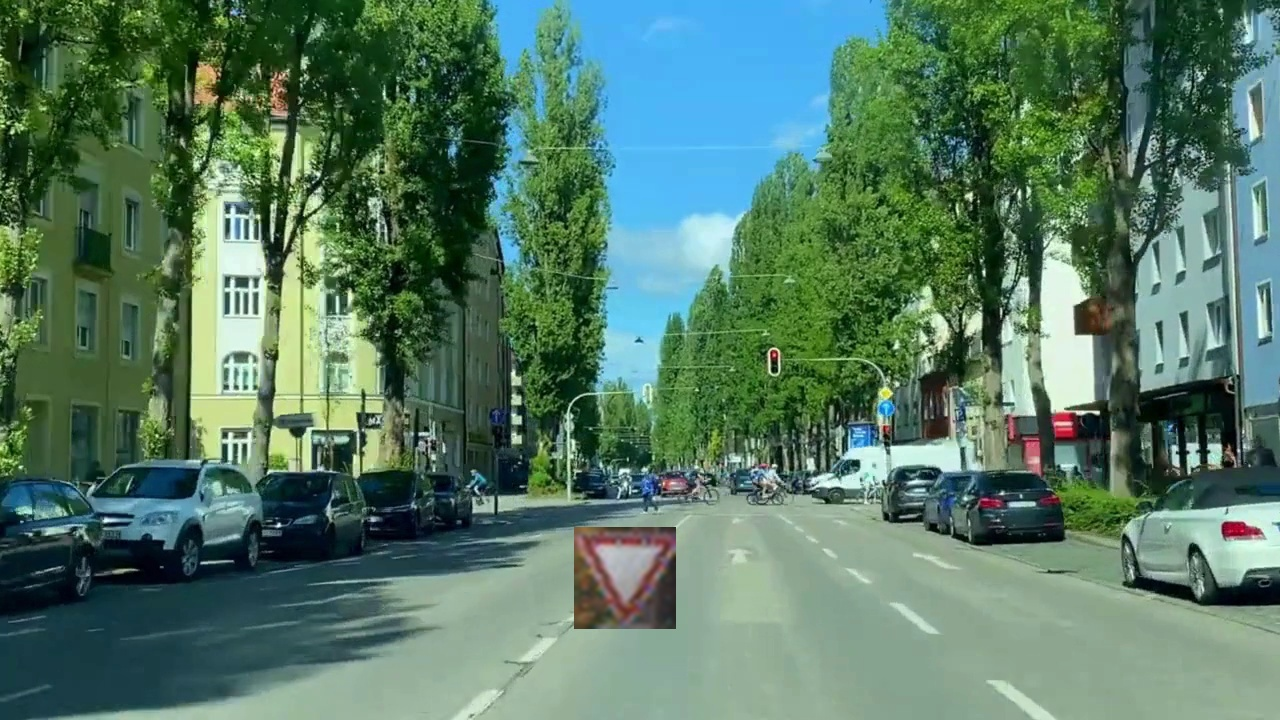Yield: (574, 527, 676, 629)
